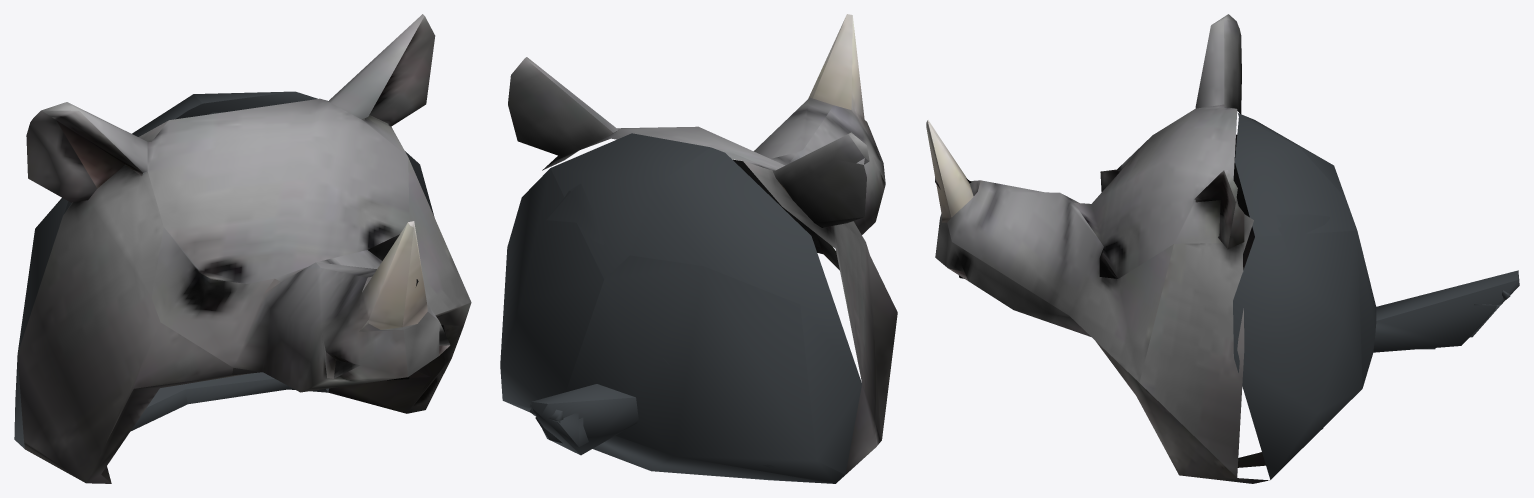
File: rhino.glb
3 renders of one model, left to right at view 1: azimuth 30°, elevation 25°; view 2: azimuth 150°, elevation 25°; view 3: azimuth 270°, elevation 25°, orthographic. The views are drawn at different scales.
Parts seen in each view (by area): view 1: geometry_0; view 2: geometry_0; view 3: geometry_0.
Part boxes in pixels (box(x1,y1,x2,y2)): geometry_0: box(14, 14, 471, 483); geometry_0: box(500, 14, 897, 483); geometry_0: box(926, 14, 1519, 483).
Size of the model in its own units: 0.5144 by 0.4484 by 0.741.
Materials: 2 (1 with a texture image).
